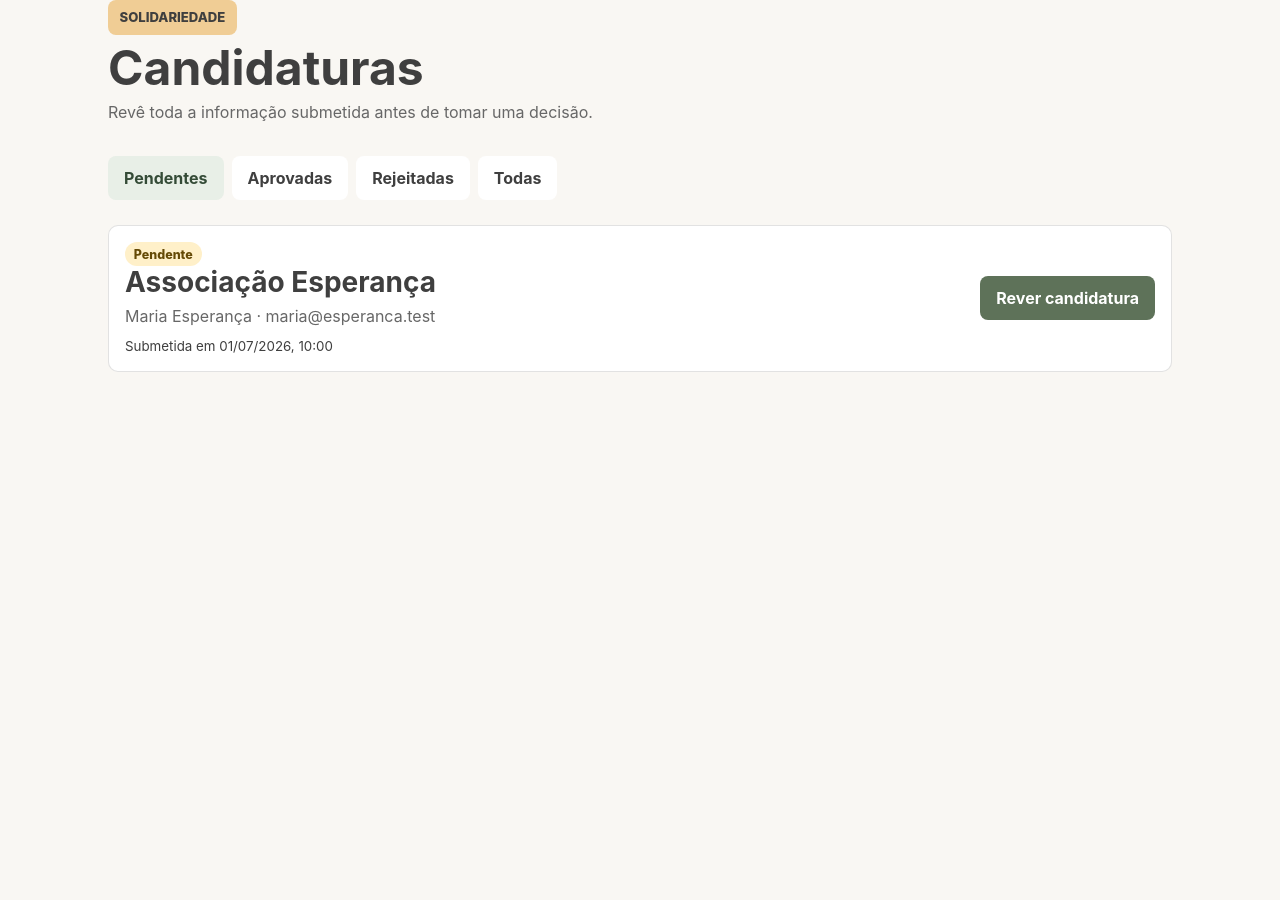
Test: AdminCharityApplicationsPage › confirma e serializa a decisão por candidatura
Expected: the heading "Associação Esperança" is shown, [125,266,436,300]
Click the button "Rever candidatura". click: point(1068, 298)
box: [980,276,1155,320]
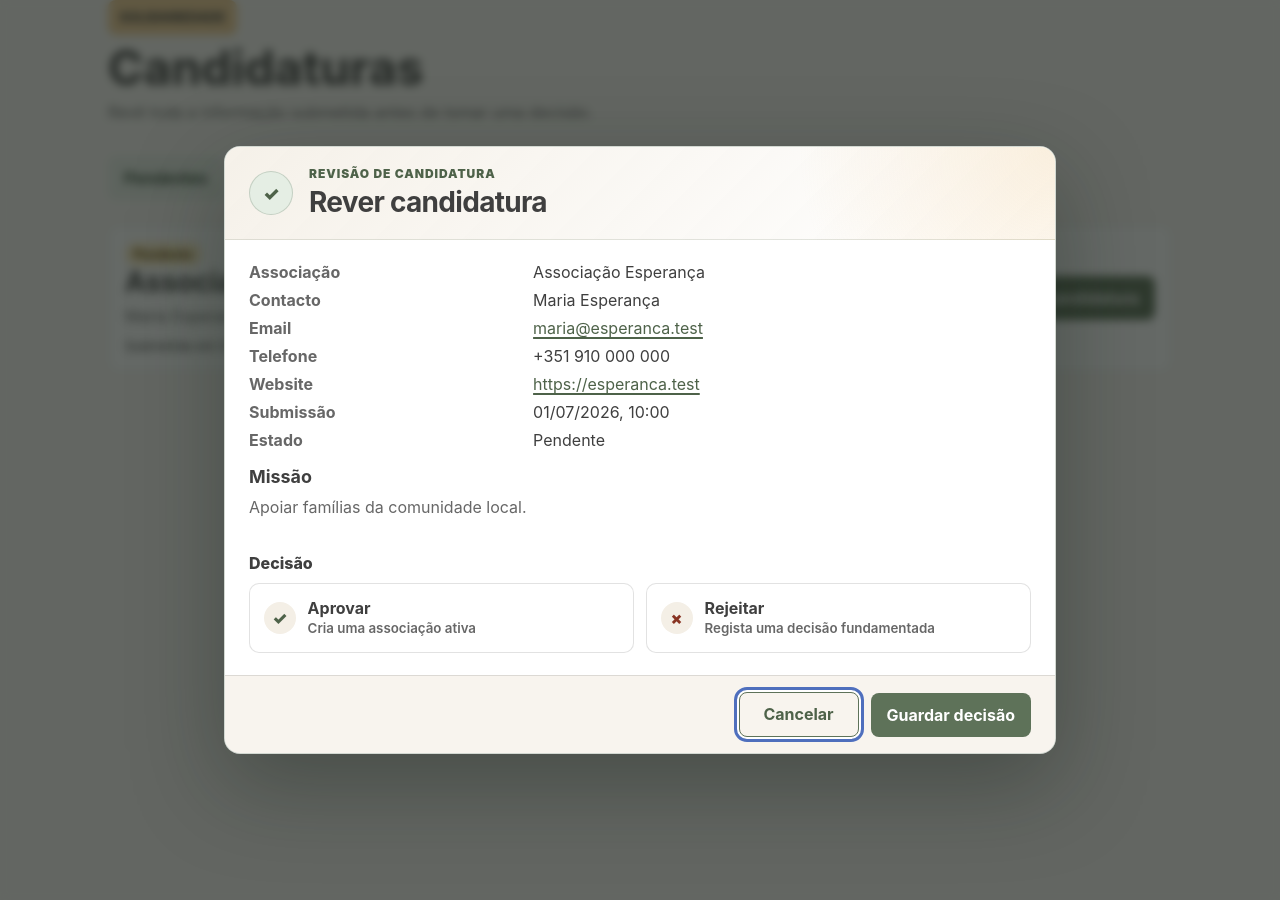
Click the radio button labelled "Aprovar". click: point(442, 618)
box: [249,584,634,653]
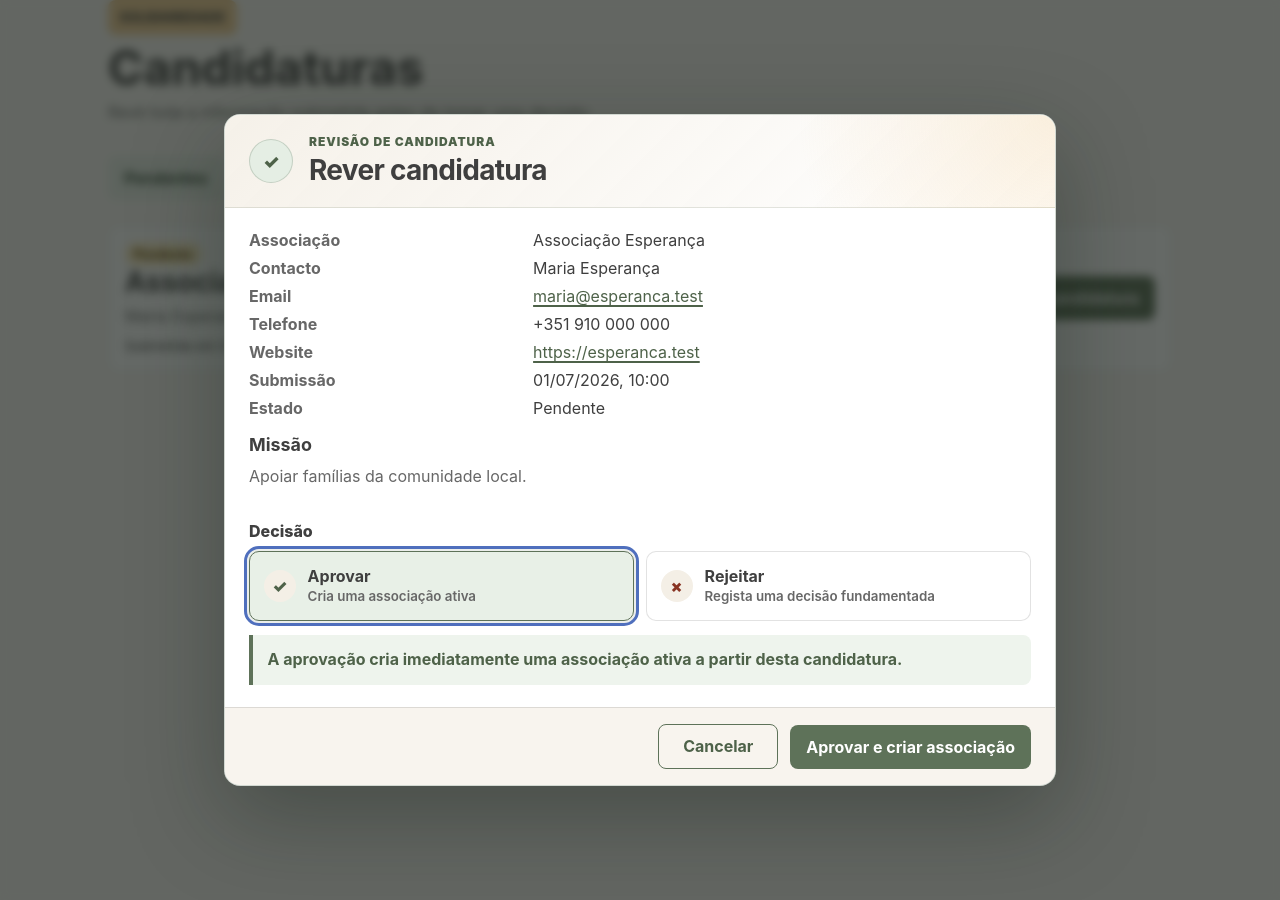
Result: the radio button labelled "Aprovar" has class "is-selected" at [249,552,634,621]
Click the button "Aprovar e criar associação". click: point(911, 747)
box: [790,725,1031,769]
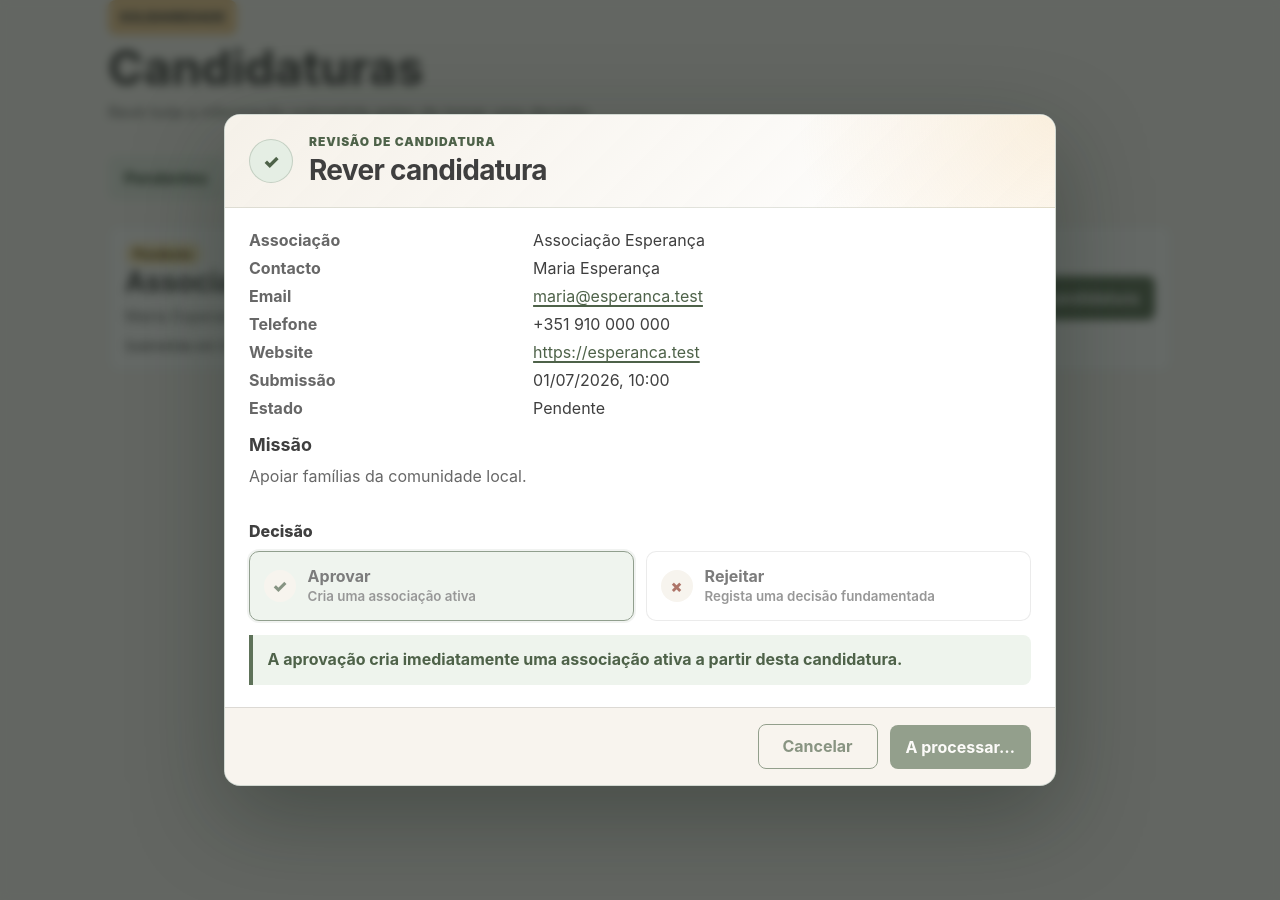
Result: the button named "Aprovar e criar associação" is disabled
Click the button named "Aprovar e criar associação". click: point(960, 747)
box: [890,725,1031,769]
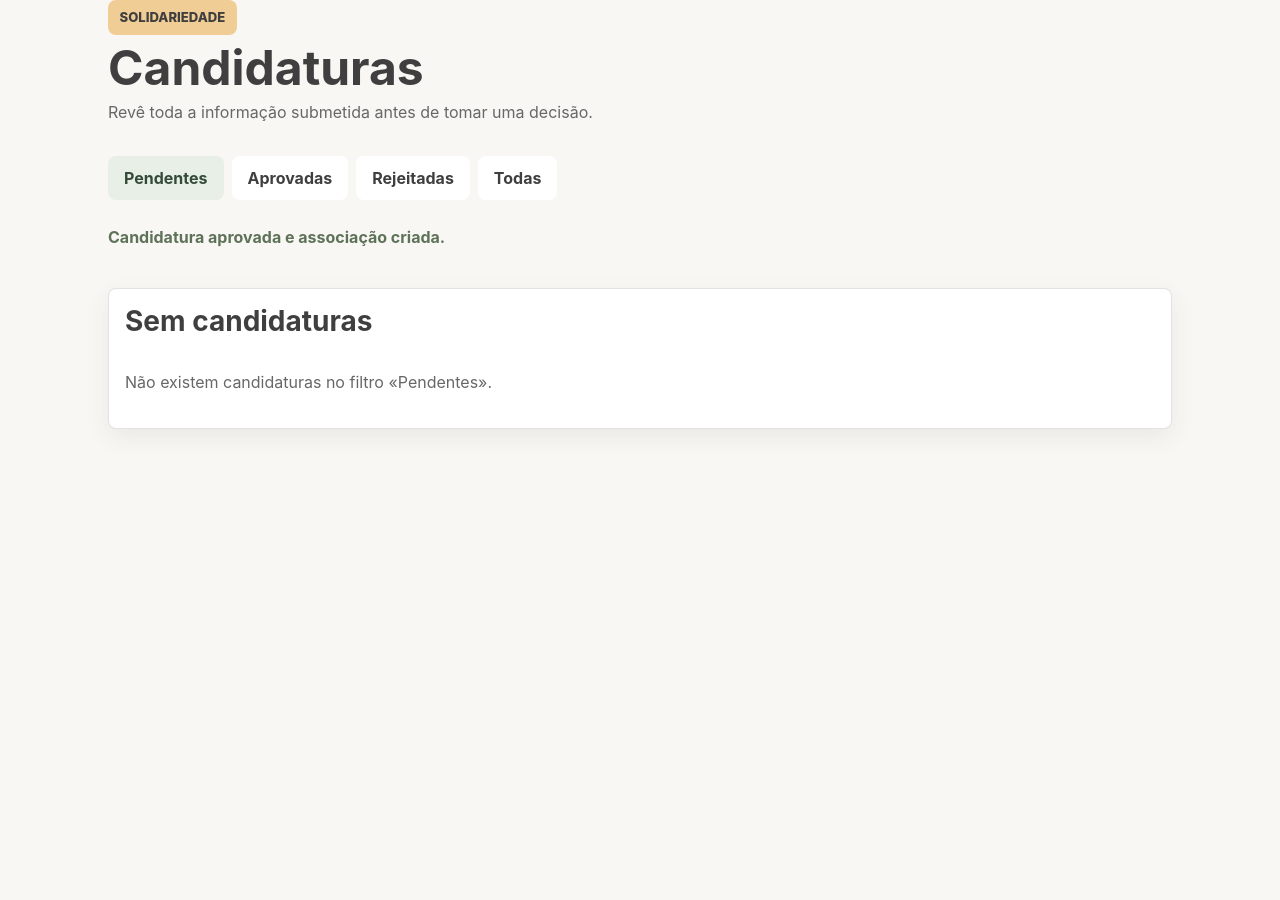
Result: the text "Candidatura aprovada e associação criada." is shown at [108,227,445,247]
